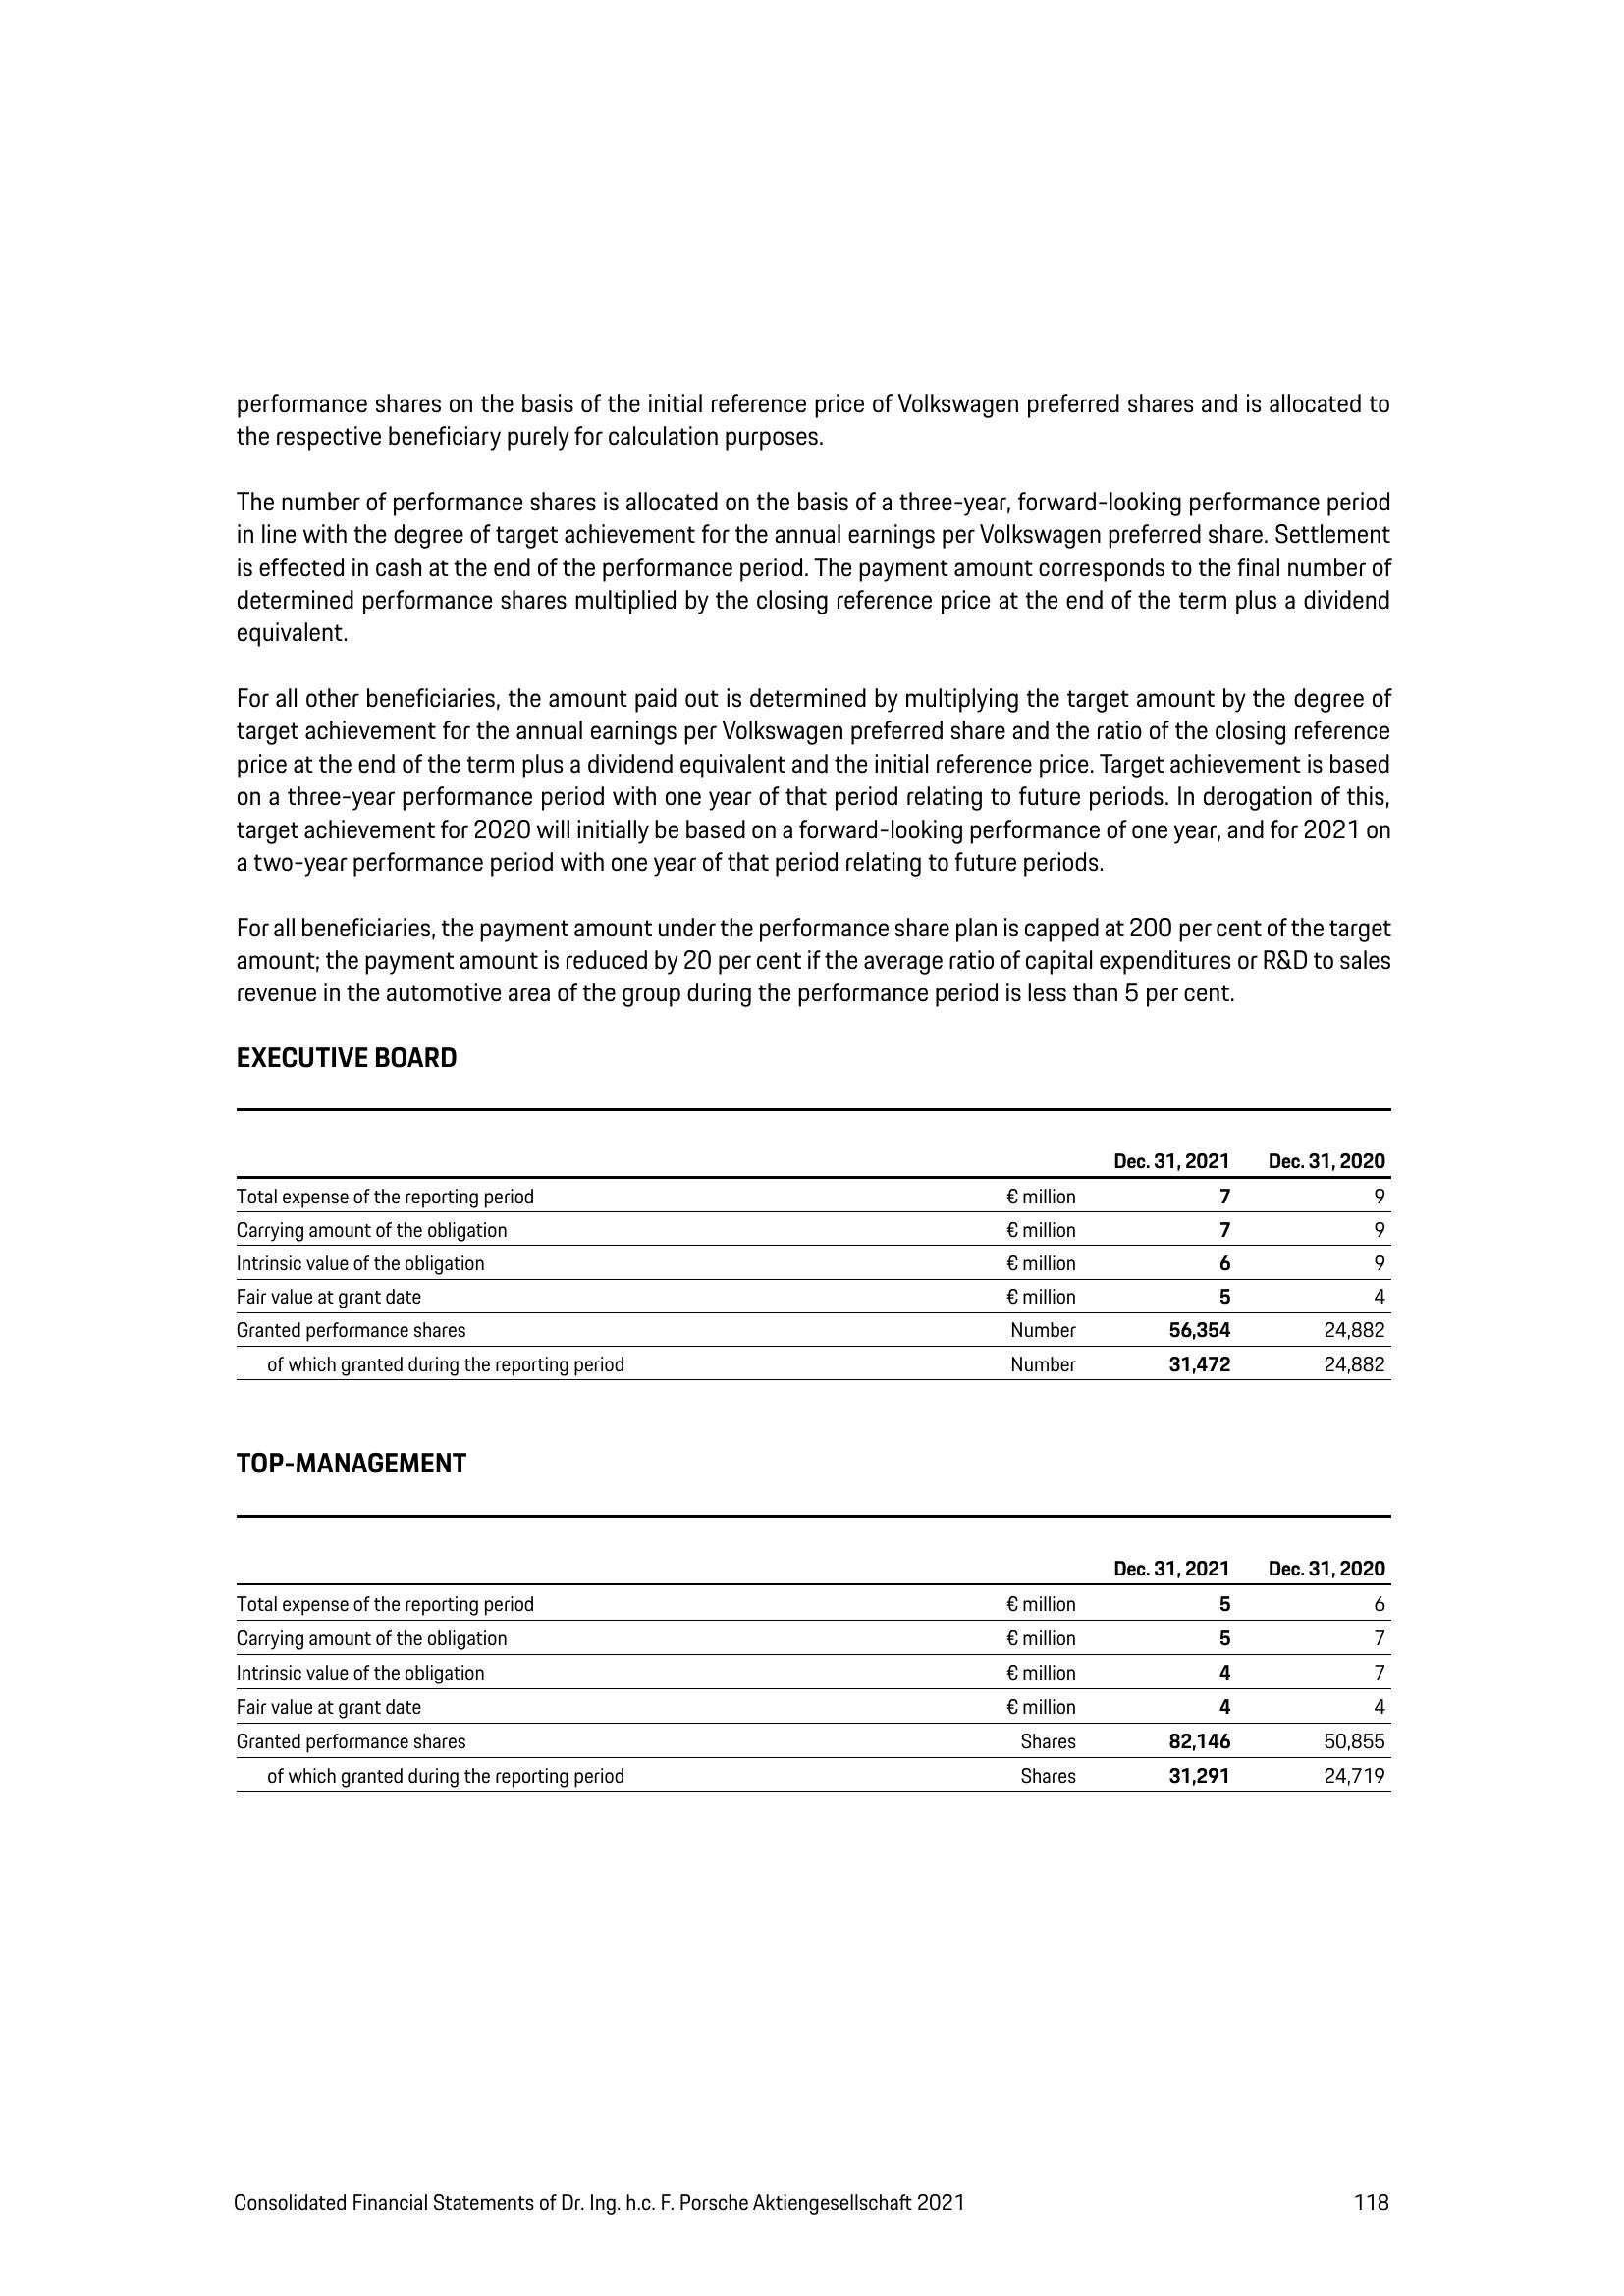Footer: (0, 2134, 1624, 2296)
Header: (0, 0, 1624, 223)
Table: (172, 1101, 1434, 1397), (167, 1518, 1438, 1799)
